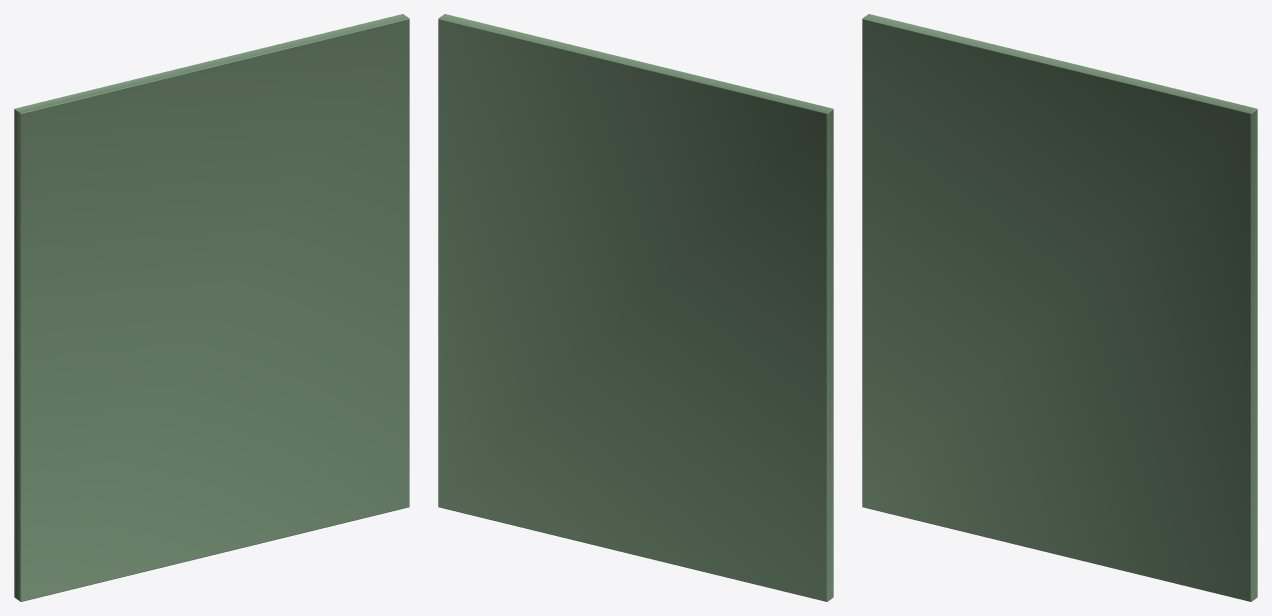
The model's file is door_3.glb.
3 renders of one model, left to right at view 1: azimuth 30°, elevation 25°; view 2: azimuth 150°, elevation 25°; view 3: azimuth 330°, elevation 25°, orthographic.
Visible parts, largest first — view 1: Plane; view 2: Plane; view 3: Plane.
Boxes of the visible parts, <box> form: Plane: <box>14,14,409,601</box>; Plane: <box>438,14,833,601</box>; Plane: <box>862,14,1257,601</box>.
Bounding box in the file's own units: 0.6 × 0.72 × 0.018.
